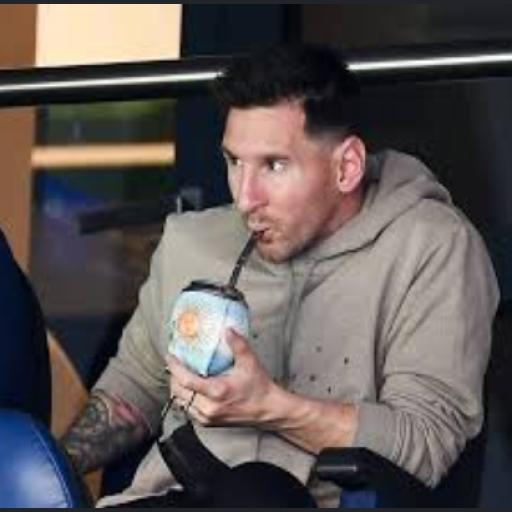mate: (168, 236, 254, 375)
